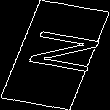N_E: (10, 29, 100, 81)
